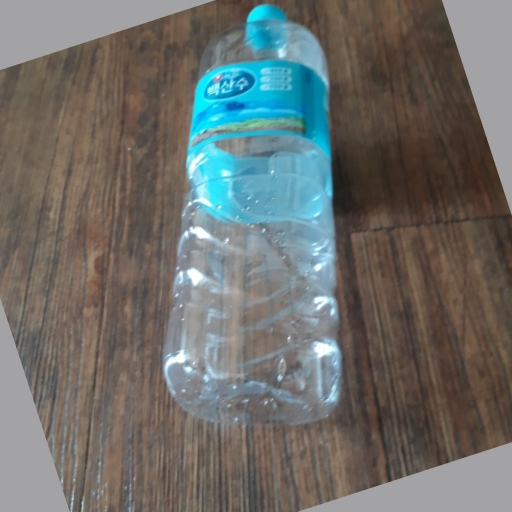Plastic_0: (167, 2, 343, 425)
